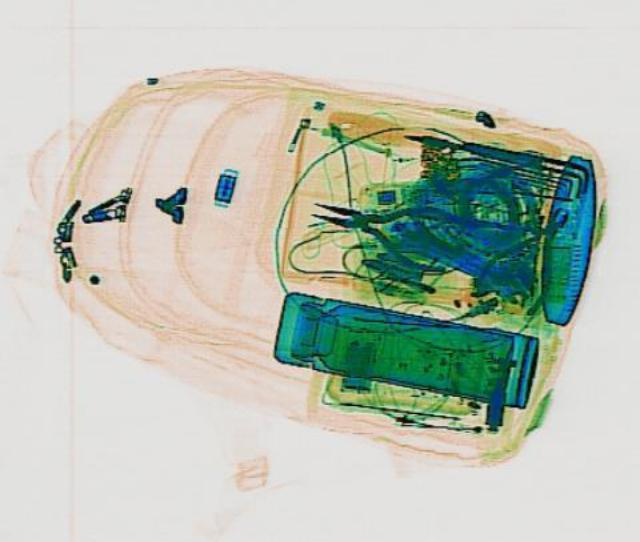Pliers: (295, 175, 469, 273)
